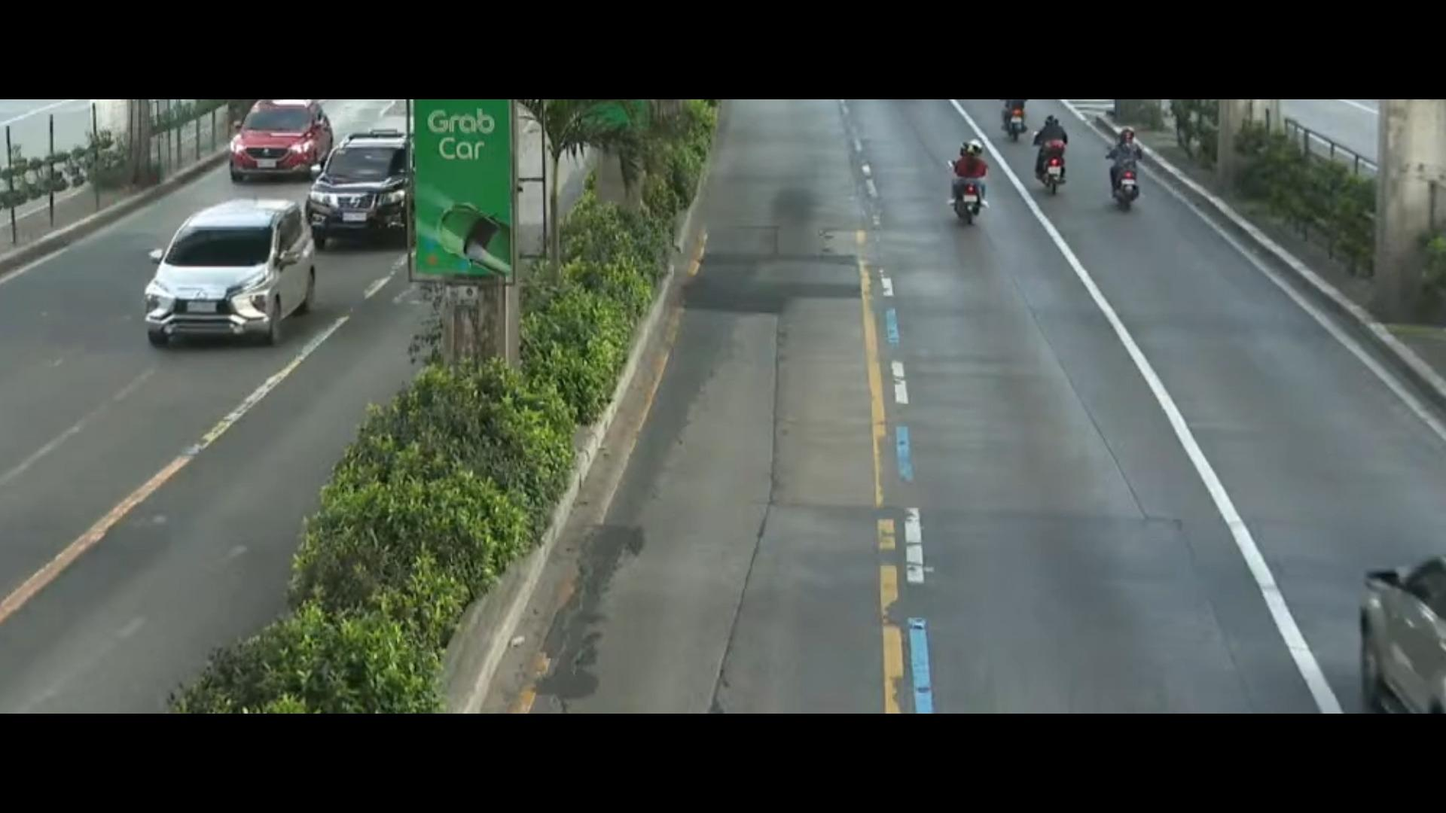Motorcycle: (924, 140, 1013, 225), (1097, 126, 1164, 220), (1019, 113, 1089, 195), (995, 102, 1032, 142)
SUV: (117, 166, 328, 368), (298, 113, 418, 256), (218, 100, 335, 191)
